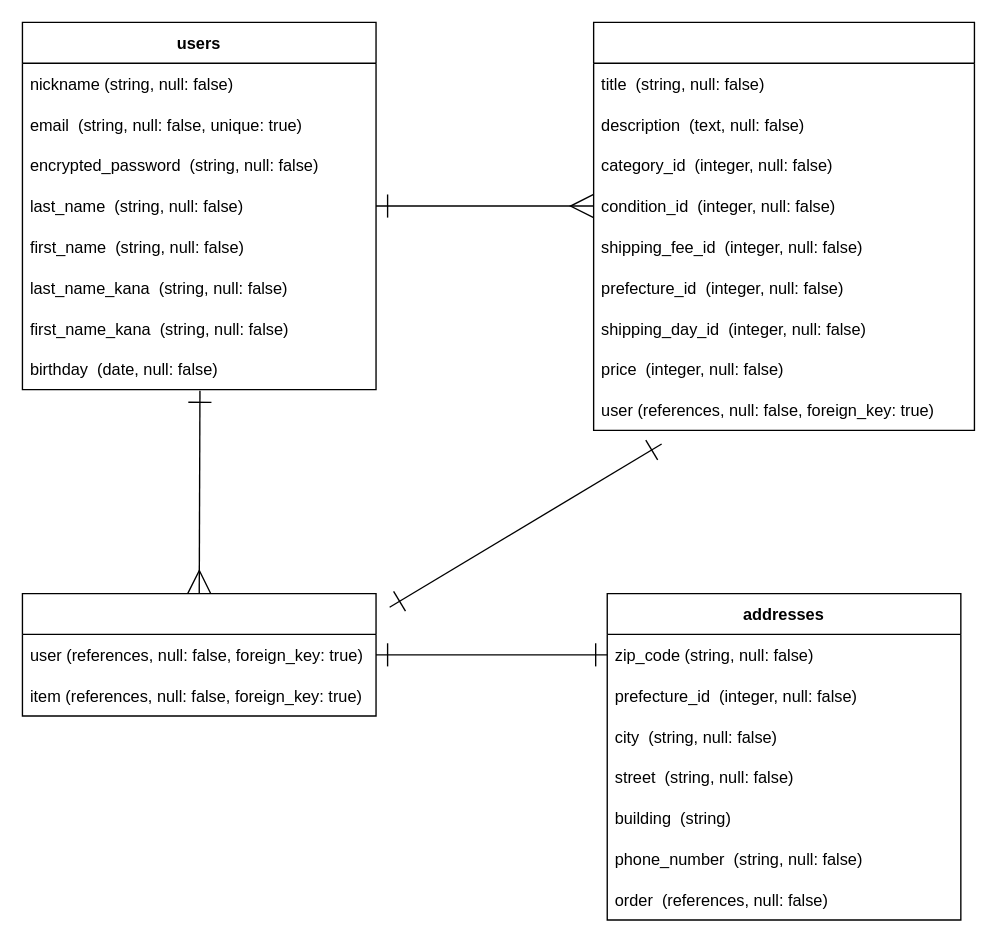
Image size: 997x942. Some labels were removed from this diagram. Each missing label, with the box of its shape:
items: (592, 21, 974, 430)
orders: (21, 592, 376, 716)
